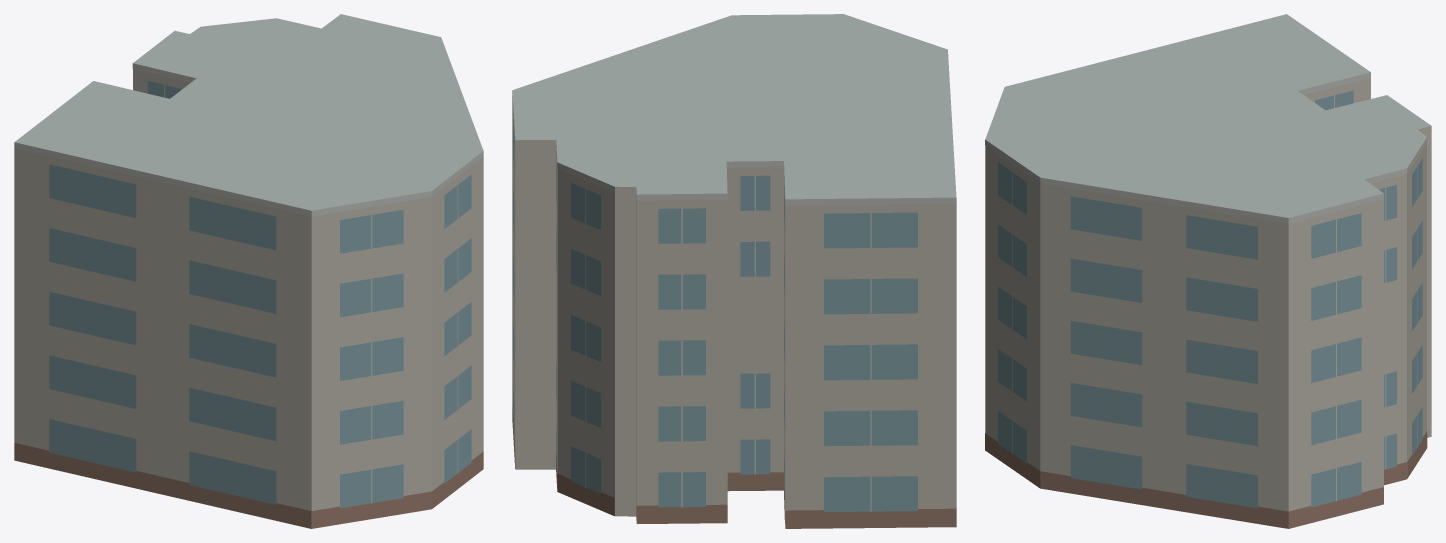
Rendered from survey-upis-32920550.glb.
The picture shows the model from 3 angles, left to right: view 1: azimuth 30°, elevation 25°; view 2: azimuth 150°, elevation 25°; view 3: azimuth 270°, elevation 25°; orthographic projection. The views are drawn at different scales.
Parts seen in each view (by area): view 1: survey-upis-32920550.tmp; view 2: survey-upis-32920550.tmp; view 3: survey-upis-32920550.tmp.
Part boxes in pixels (x1=…): survey-upis-32920550.tmp: x1=14, y1=14, x2=483, y2=528; survey-upis-32920550.tmp: x1=512, y1=14, x2=956, y2=528; survey-upis-32920550.tmp: x1=985, y1=14, x2=1431, y2=528.
Bounding box in the file's own units: 18.3 × 13 × 16.93.
